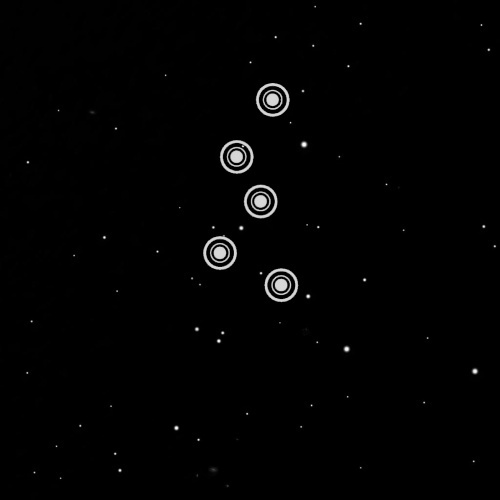cassiopeia: (188, 71, 316, 313)
